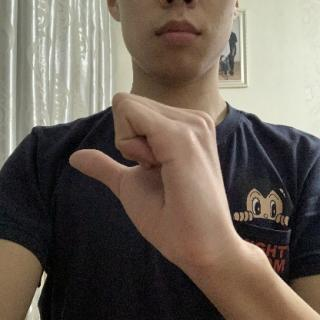WAW: (63, 86, 247, 270)
